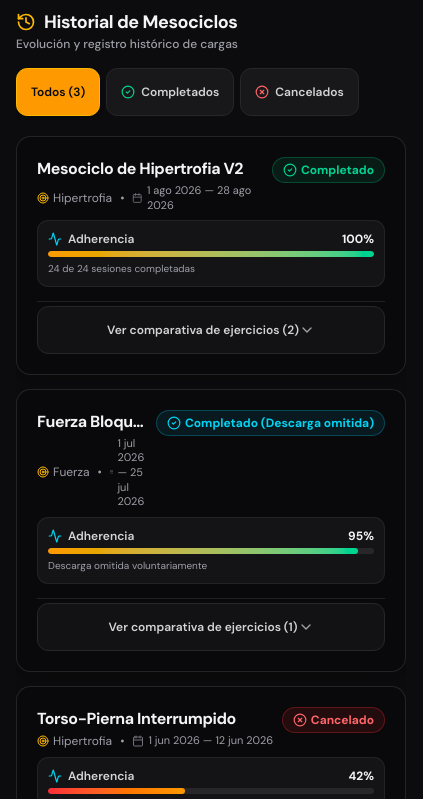
Test: TASK-40: RoutineHistoryPage — Completed & Cancelled Mesocycle History (RF-06, Constitución Art. 2, Art. 6) › Filtros de Visualización por Estado › should filter items by "Completados" and hide cancelled mesocycles
Click the button "Completados": (170, 92) [106,68,234,116]
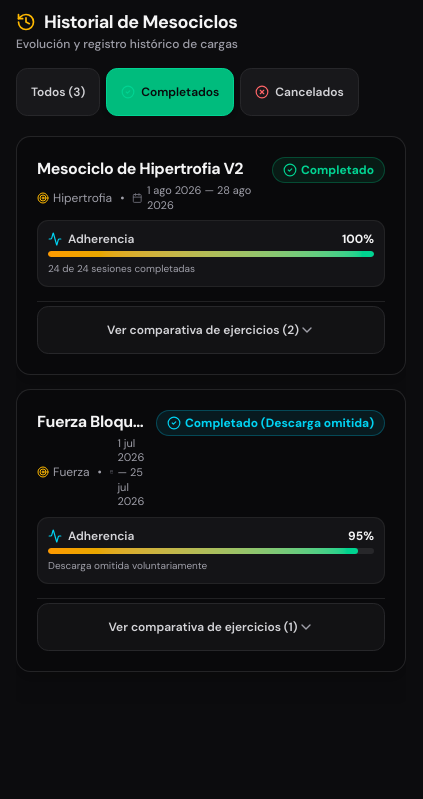
Expected: the heading "Mesociclo de Hipertrofia V2" is shown, [37,157,264,181]
Now the heading "Torso-Pierna Interrumpido" is gone
